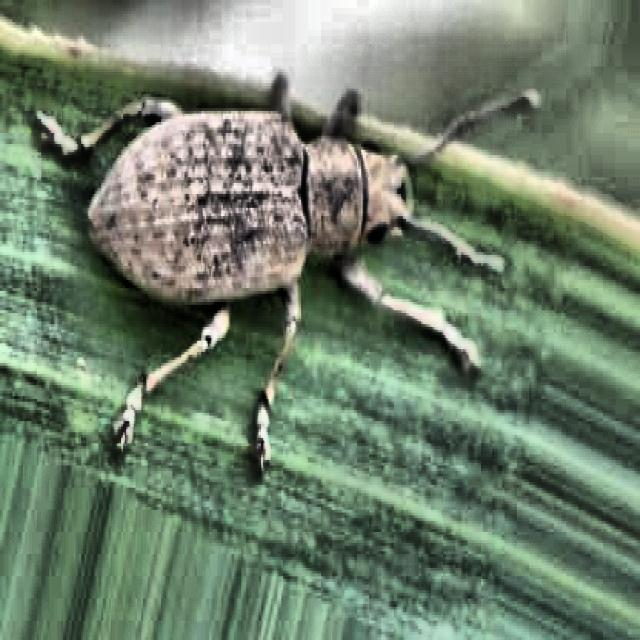Stink bug: (30, 0, 572, 479)
